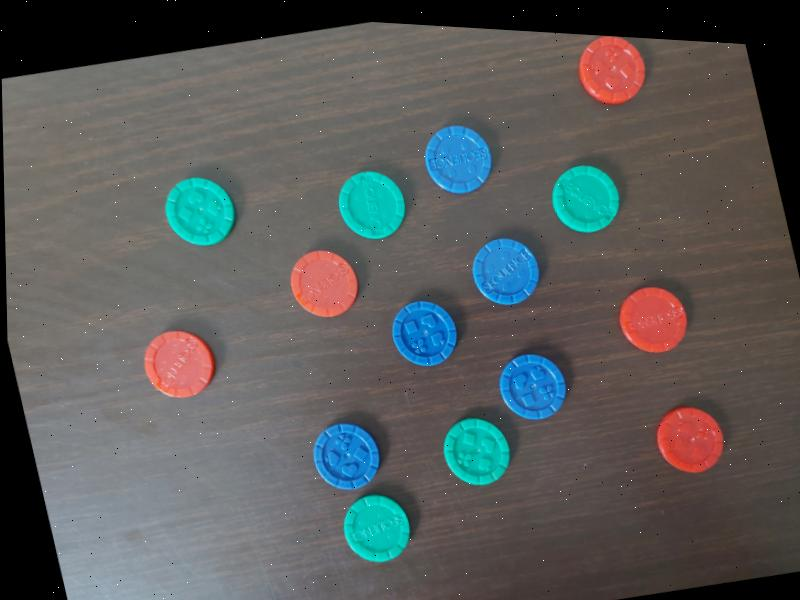Blue_Token: (415, 112, 503, 204), (303, 411, 390, 500), (462, 225, 548, 315), (489, 341, 576, 429), (382, 289, 468, 377)
Green_Token: (154, 164, 246, 257), (332, 482, 421, 573), (541, 154, 628, 243), (433, 406, 520, 495), (329, 160, 414, 248)
Red_Token: (278, 236, 371, 330), (132, 317, 226, 408), (608, 274, 697, 363), (645, 394, 732, 482), (567, 34, 657, 115)
